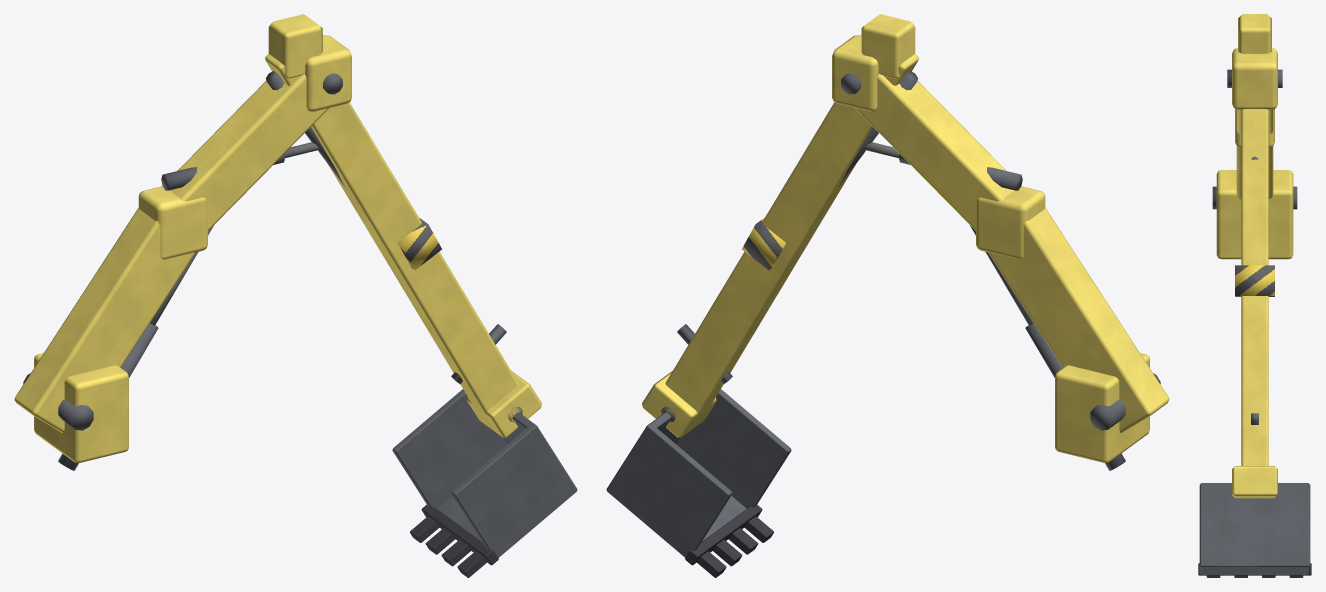
The model's file is Obras_BackhoeArm.fbx.
3 views of the same model, side by side, from view 1: azimuth 30°, elevation 25°; view 2: azimuth 150°, elevation 25°; view 3: azimuth 270°, elevation 25° (orthographic). The views are drawn at different scales.
Visible parts, largest first — view 1: Obras_BackhoeArm; view 2: Obras_BackhoeArm; view 3: Obras_BackhoeArm.
Part boxes in pixels (left/top/right/bottom): Obras_BackhoeArm: left=14, top=14, right=577, bottom=577; Obras_BackhoeArm: left=606, top=14, right=1169, bottom=577; Obras_BackhoeArm: left=1198, top=14, right=1311, bottom=577.
Size of the model in its own units: 3.42 by 3.57 by 0.74.
1 material, 1 textured.
